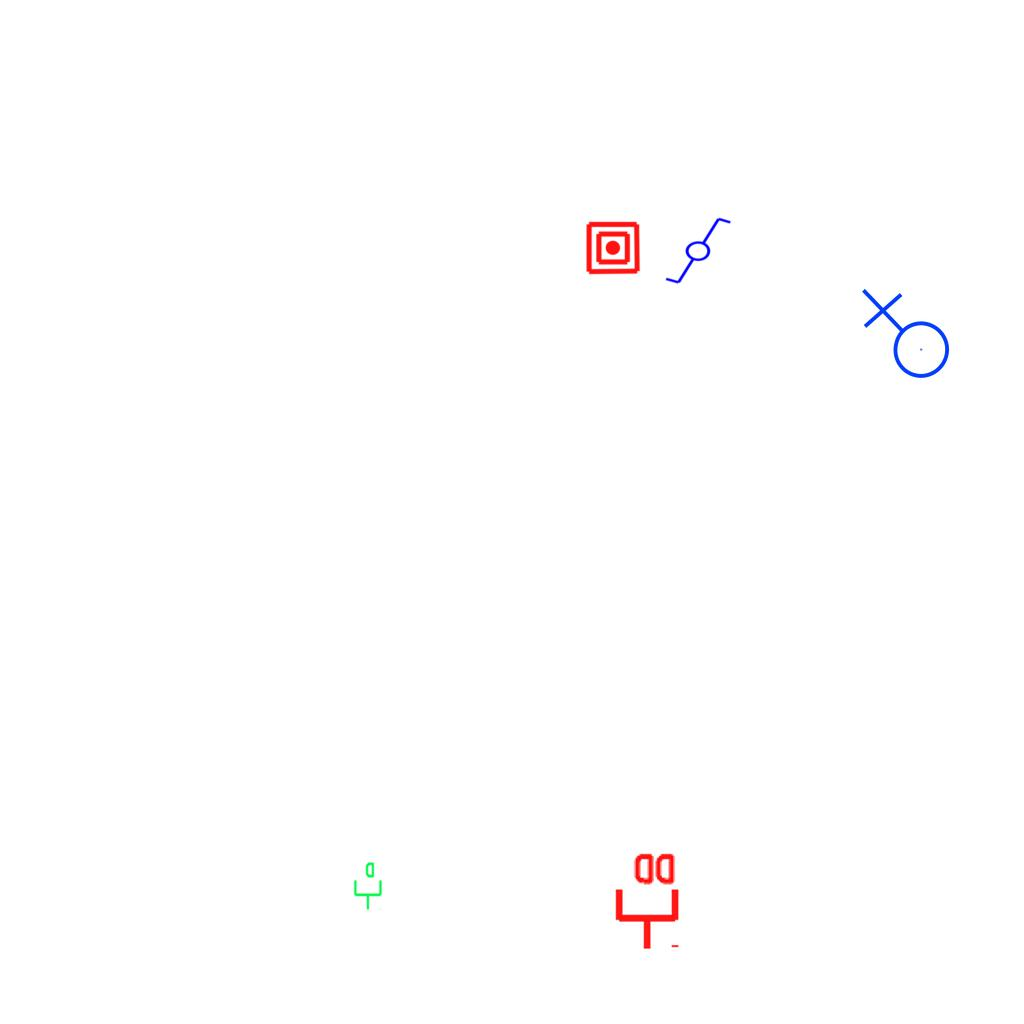Datenanschluss_einfach: (350, 861, 384, 911)
Datenanschluss_zweifach: (611, 849, 680, 952)
Elektroanschluss_allgemein_230V_Geraeteanschlussdose_230V: (857, 288, 951, 387)
NAM-Nichtautomatischer_Melder: (585, 220, 641, 276)
Wechselschalter: (655, 214, 733, 286)
